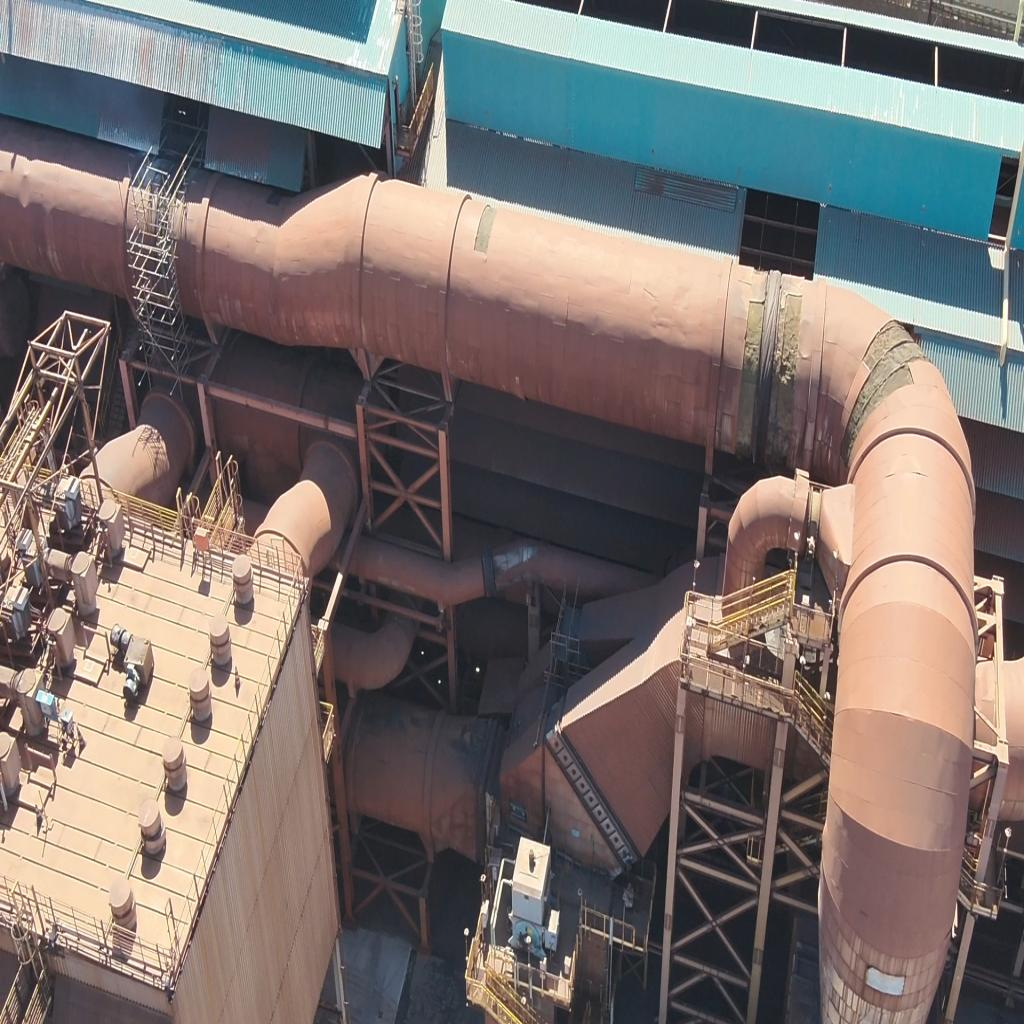Failures: (848, 305, 932, 444), (732, 298, 762, 454), (773, 286, 799, 455), (467, 198, 497, 260)
